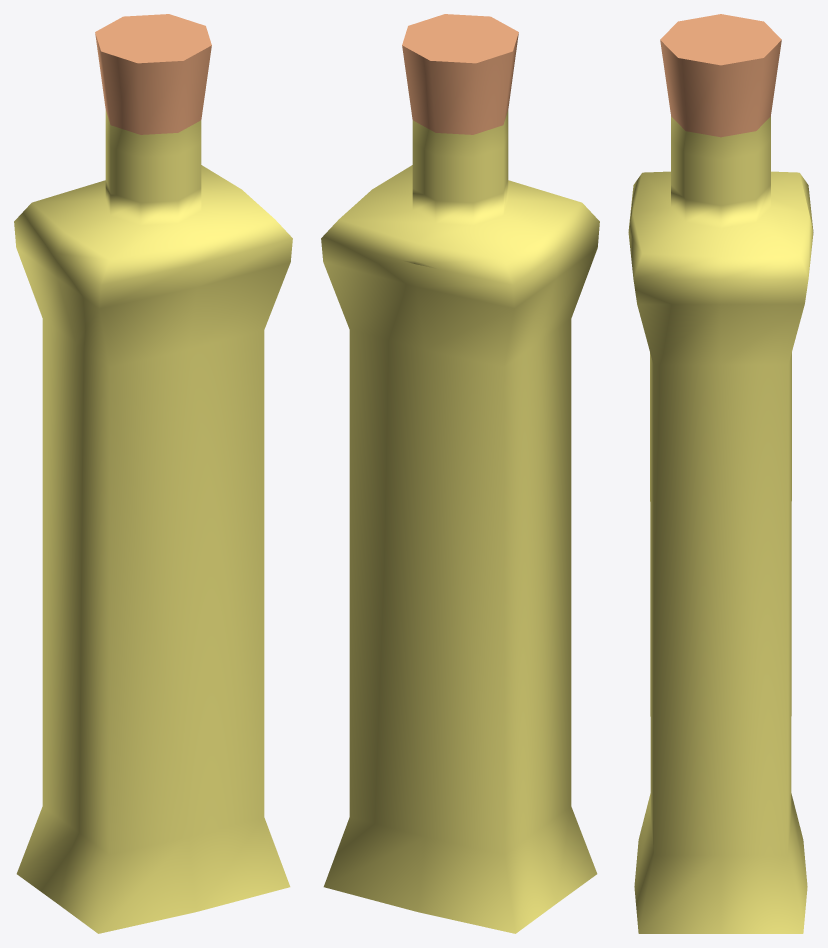
The model's file is BAR_LiqourBottle13.fbx.
3 views of the same model, side by side, from view 1: azimuth 30°, elevation 25°; view 2: azimuth 150°, elevation 25°; view 3: azimuth 270°, elevation 25° (orthographic).
Parts seen in each view (by area): view 1: BAR_LiqourBottle13; view 2: BAR_LiqourBottle13; view 3: BAR_LiqourBottle13.
Boxes of the visible parts, x1,y1,x2,y2 form: BAR_LiqourBottle13: (14, 14, 292, 933); BAR_LiqourBottle13: (321, 14, 599, 933); BAR_LiqourBottle13: (628, 14, 813, 933).
Size of the model in its own units: 6.13 by 25.47 by 5.04.
